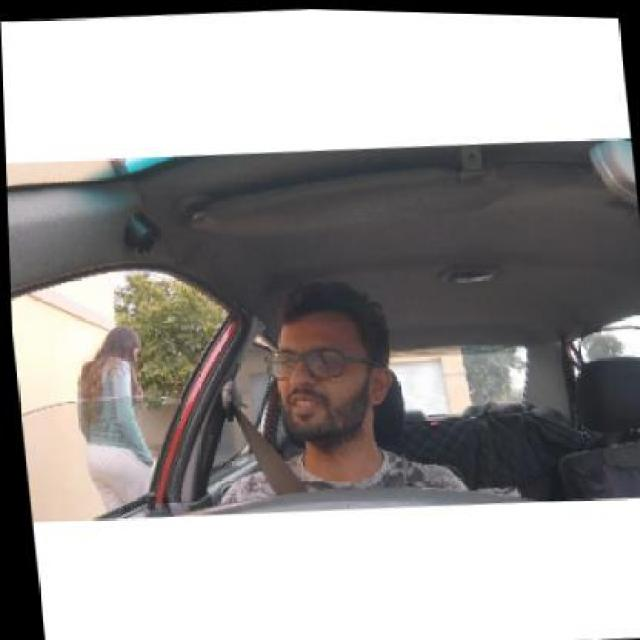person: (269, 283, 408, 462)
